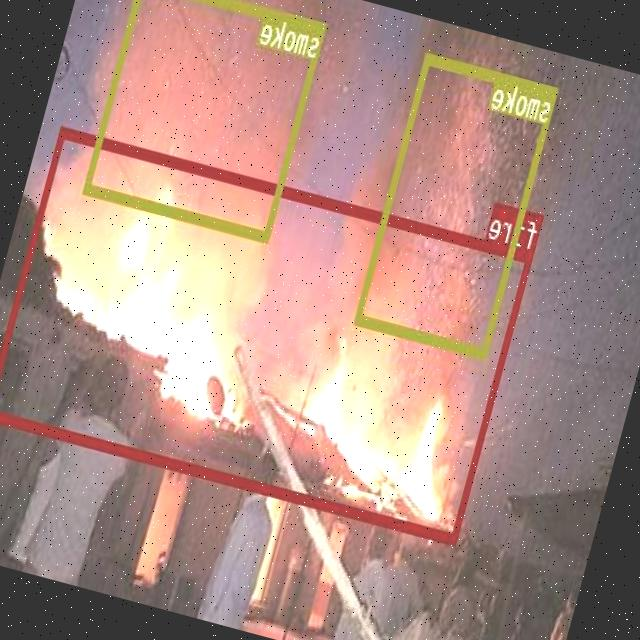fire: (0, 126, 534, 542)
smoke: (355, 52, 560, 358), (84, 0, 328, 241)
